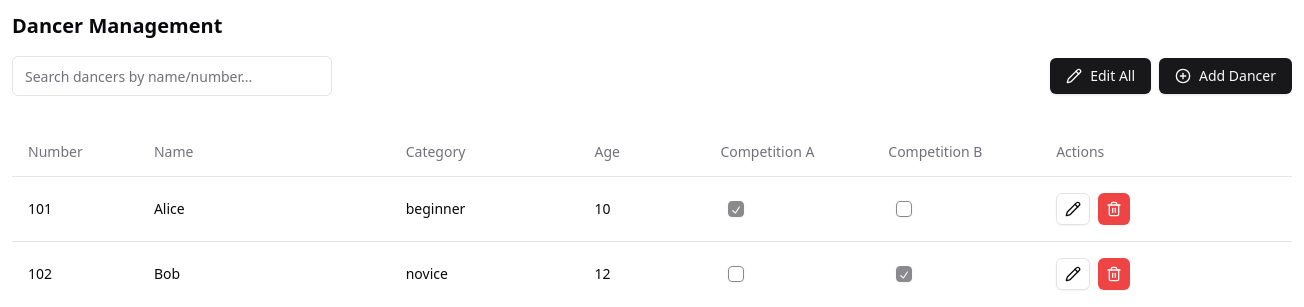
DancerManagement › filters dancers when searching
Type "Alice" into the field with placeholder "Search dancers by name/number..." at (172, 76), box [12, 56, 332, 96]
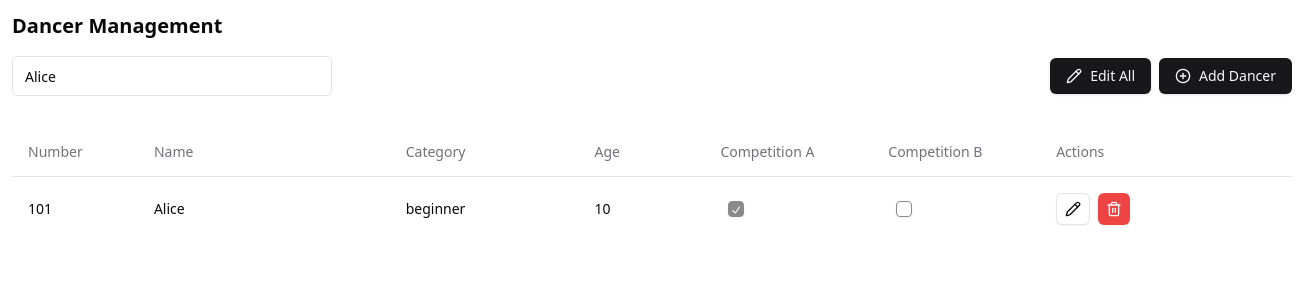
Expected: the text "Alice" is shown, [138, 176, 390, 240]
Now the text "Bob" is gone
